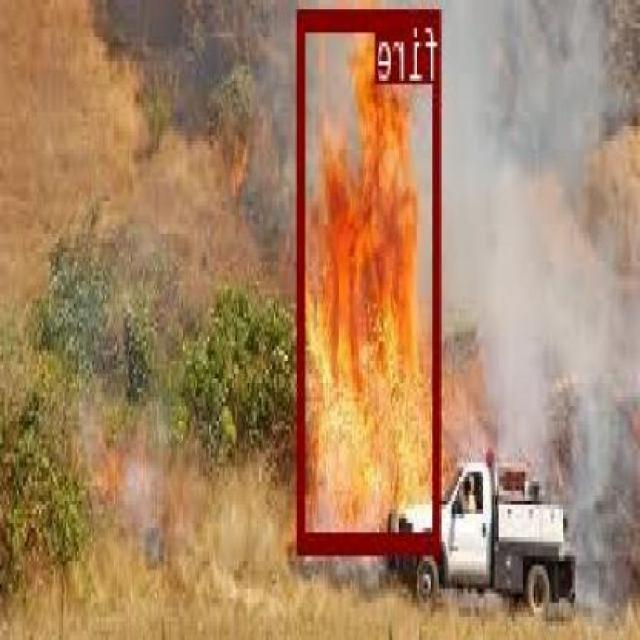Fire: (300, 7, 442, 550)
